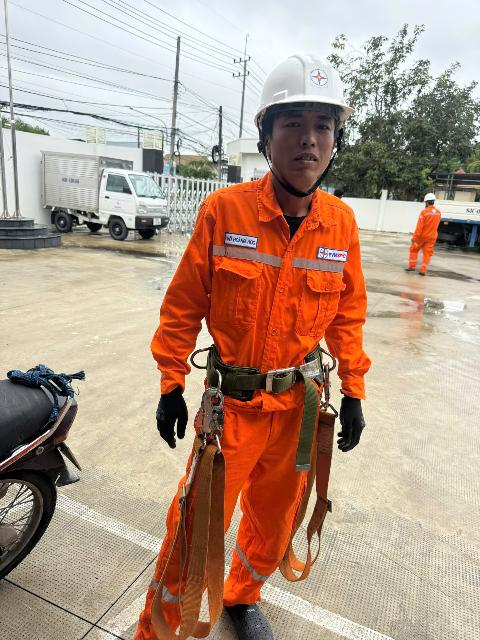gloves: (327, 389, 387, 469), (149, 382, 188, 452)
harness: (202, 336, 336, 402)
helmet: (243, 46, 370, 140)
shoes: (217, 586, 289, 640)
